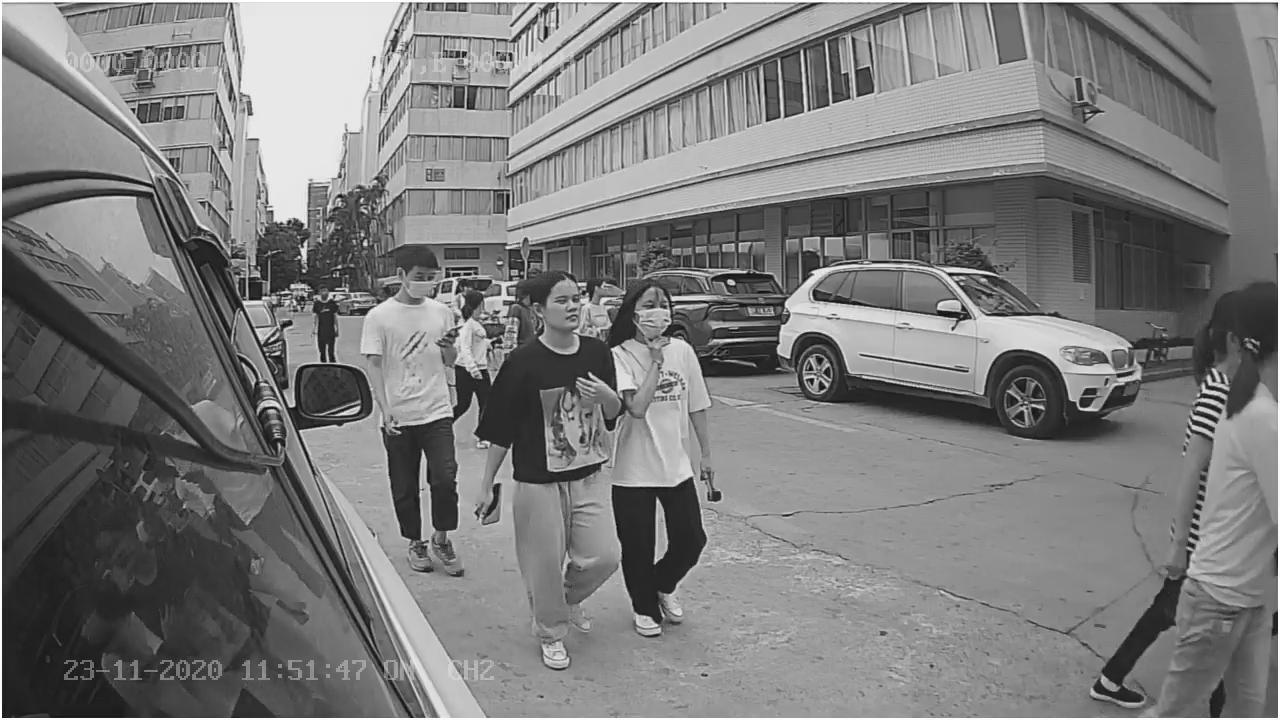person: (475, 262, 628, 671)
